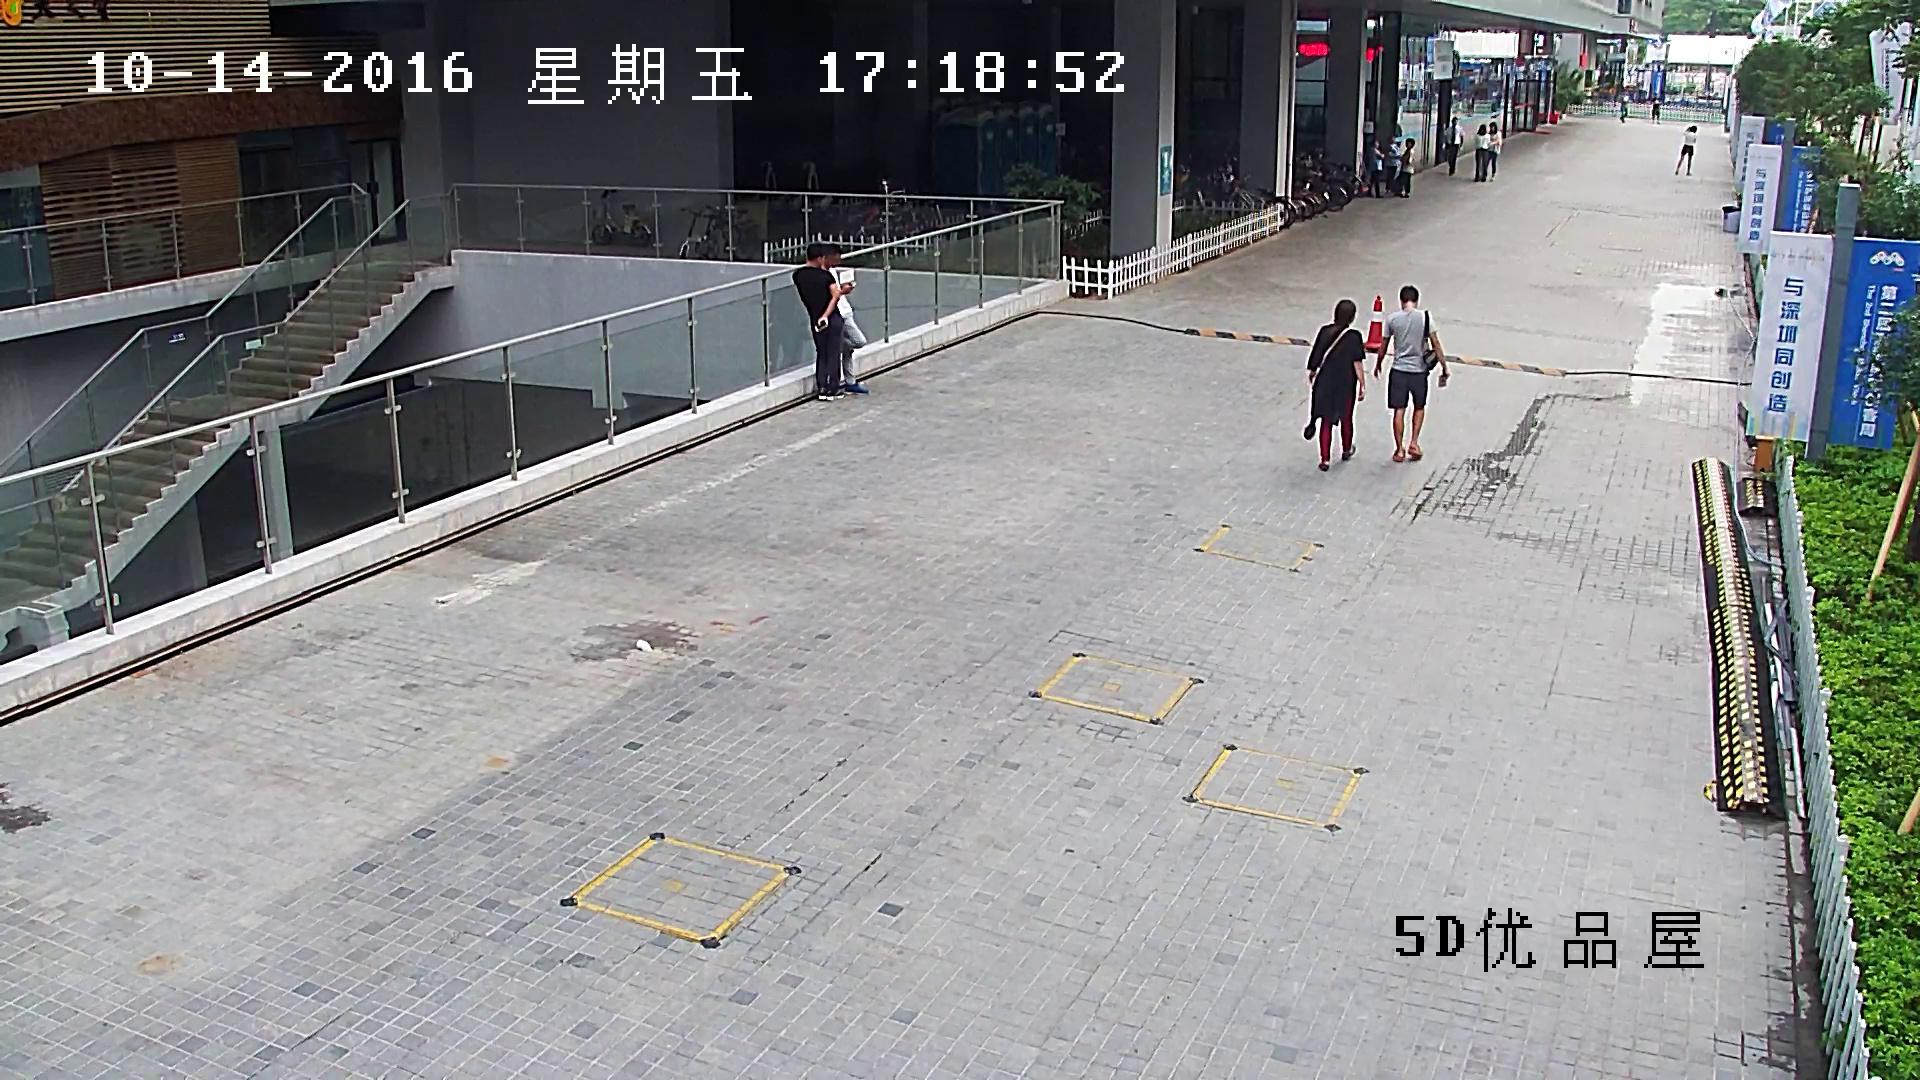person: (1374, 286, 1449, 461), (1304, 300, 1366, 471), (792, 242, 844, 400), (821, 242, 869, 394), (1392, 138, 1415, 197), (1674, 125, 1696, 176), (1366, 138, 1384, 198), (1472, 124, 1490, 181), (1445, 117, 1463, 175), (1384, 135, 1400, 193), (1488, 121, 1502, 181), (1650, 93, 1661, 123), (1619, 88, 1628, 123)
